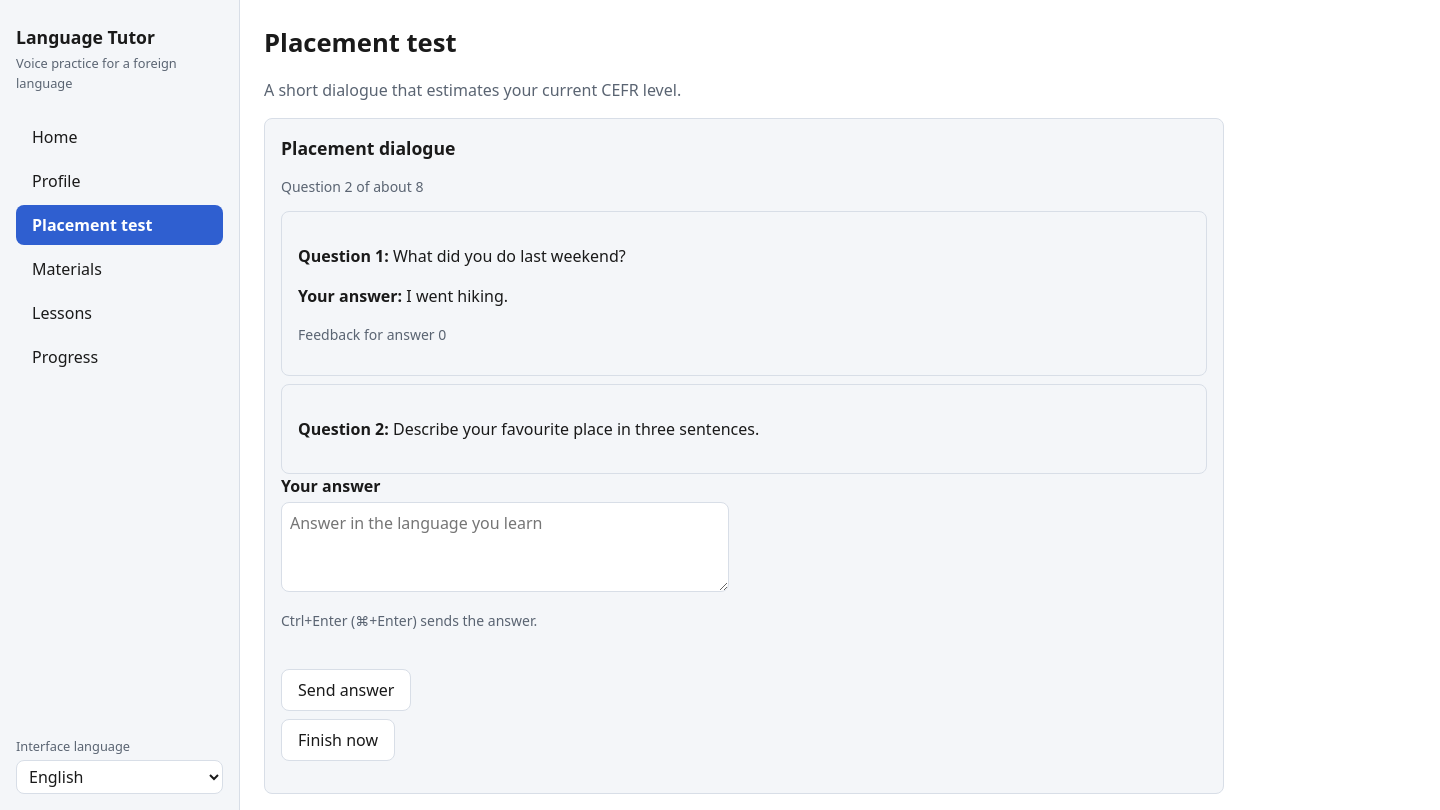
Test: отказы языковой модели › не теряет сессию при 502 и отправляет ответ повторно
This screenshot has width=1440, height=810.
Expected: the text "Describe your favourite place in three sentences." is shown, [393,418,759,440]
Type "A quiet park." into the text box labelled "Your answer" at [505, 547], box [281,502,729,592]
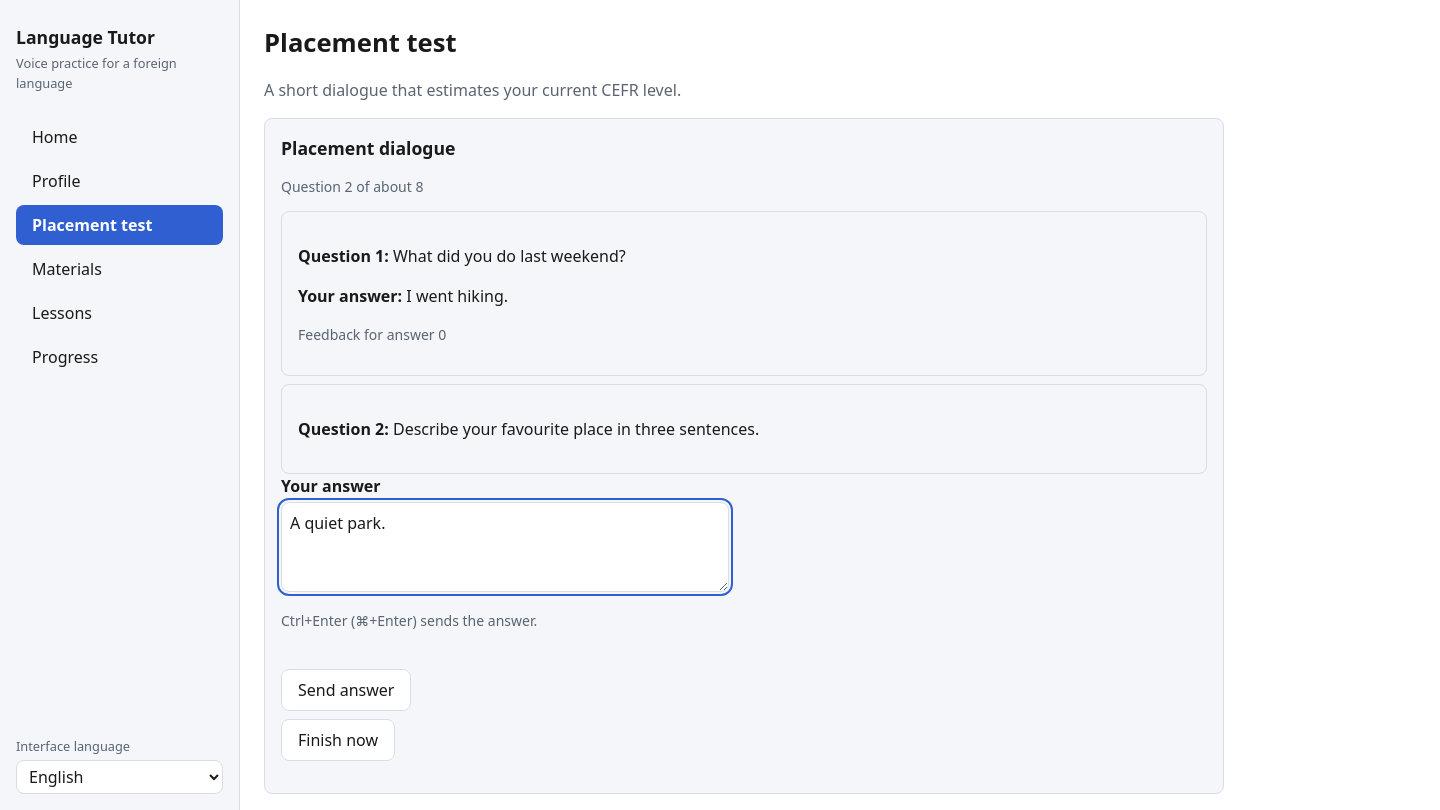
Click the button "Send answer" at [346, 690], box [281,669,411,711]
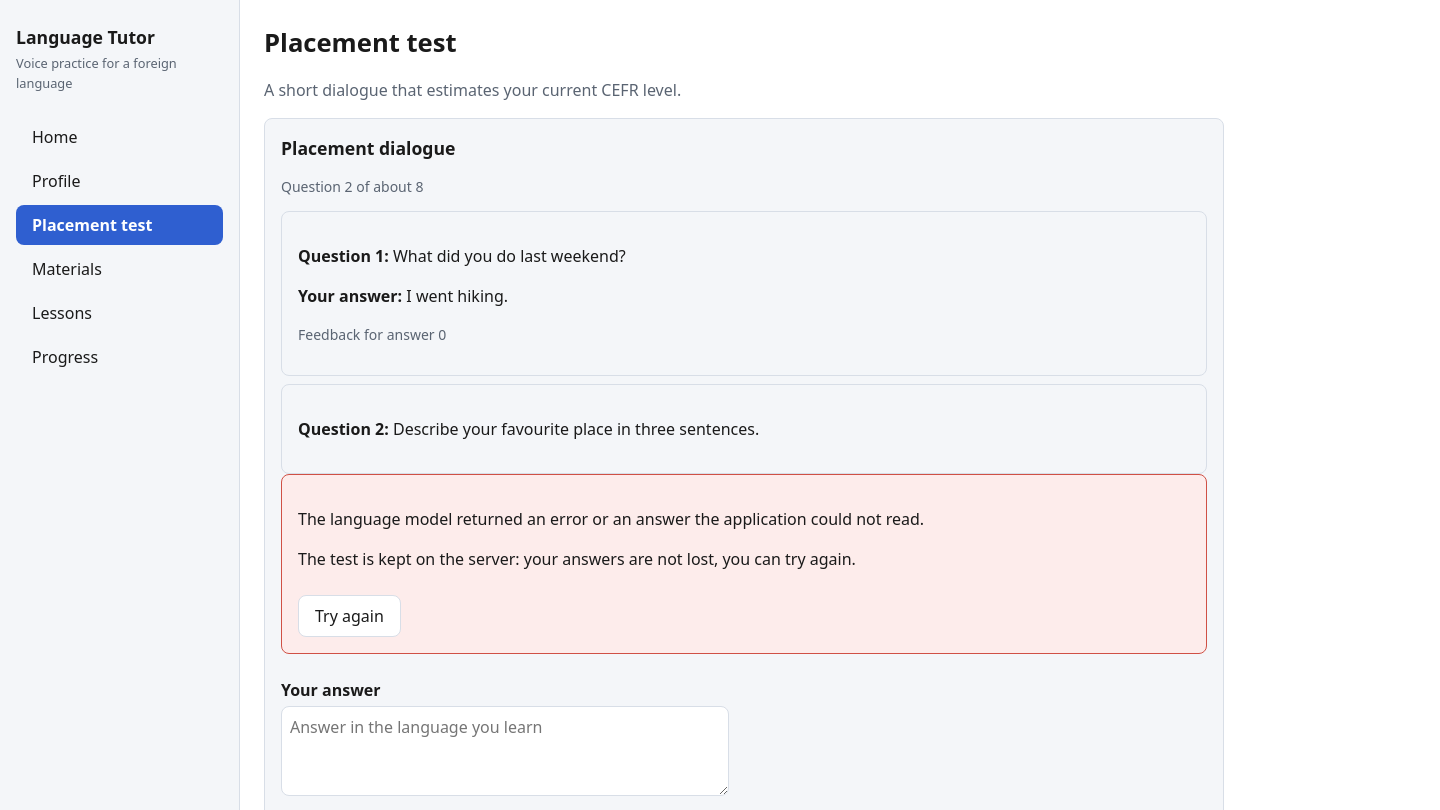
Expected: the text "I went hiking." is shown, [406,285,508,307]
Now the message shows "The language model returned an error or an answer the application could not read.", box [298,508,924,530]
Now the message shows "The test is kept on the server: your answers are not lost, you can try again.", box [298,548,856,570]
Click the button "Try again" at [349, 616], box [298,595,401,637]
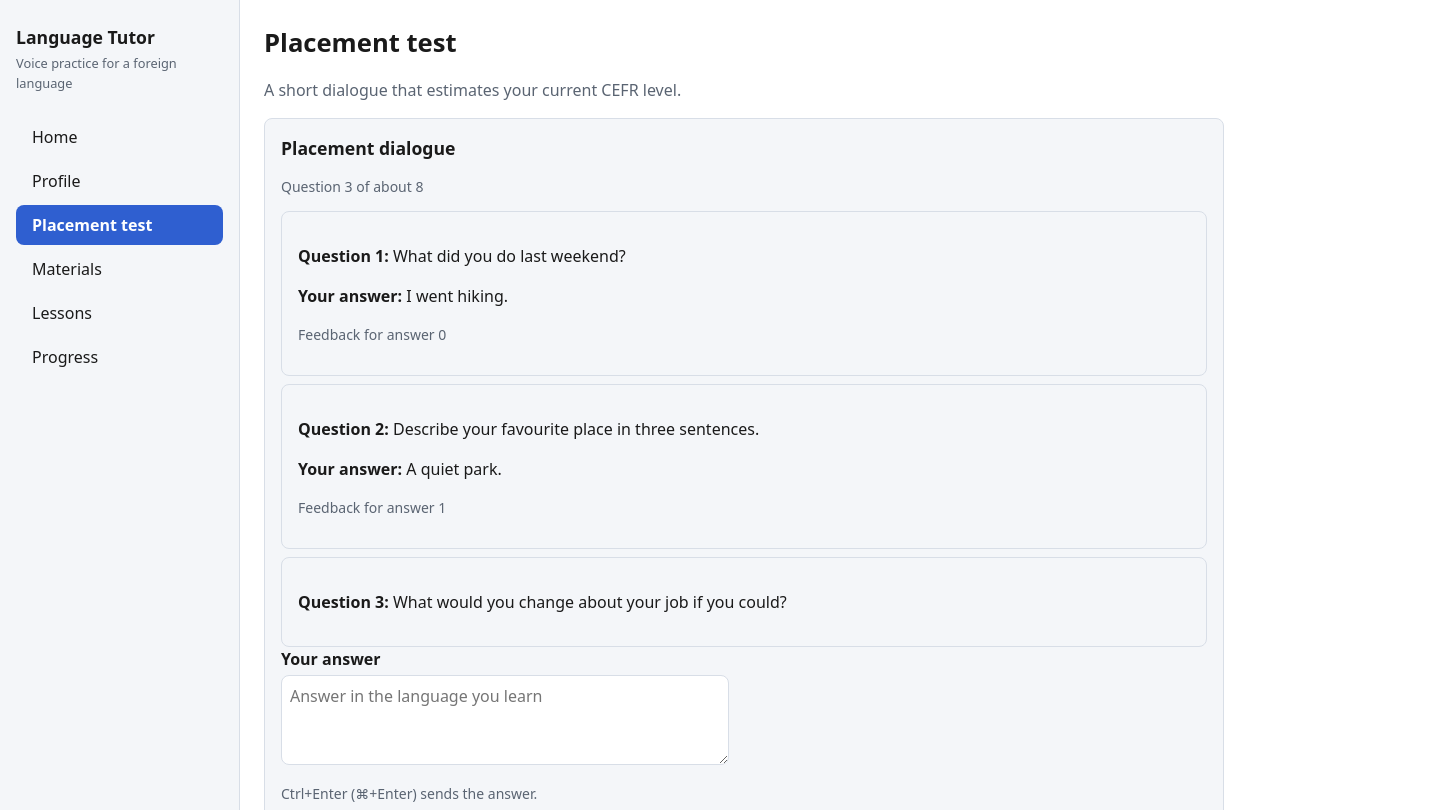
Now the text "What would you change about your job if you could?" is shown, box [393,591,787,613]
Now the text "A quiet park." is shown, box [406,458,502,480]
Now the message is gone
